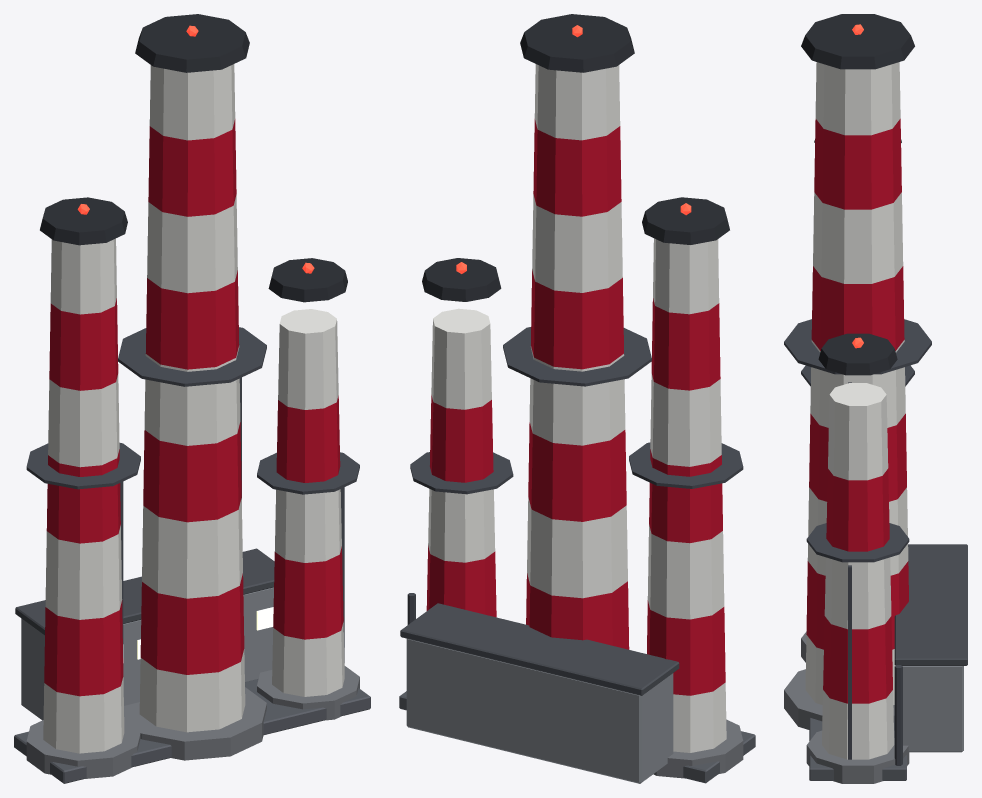
File: eramet_stacks.glb
3 renders of one model, left to right at view 1: azimuth 30°, elevation 25°; view 2: azimuth 150°, elevation 25°; view 3: azimuth 270°, elevation 25°, orthographic. The views are drawn at different scales.
Visible parts, largest first — view 1: eramet_stacks; view 2: eramet_stacks; view 3: eramet_stacks.
Part boxes in pixels (x1,y1,x2,y2): eramet_stacks: [14, 14, 370, 783]; eramet_stacks: [399, 14, 755, 783]; eramet_stacks: [784, 14, 967, 783].
Bounding box in the file's own units: 8.73 × 18.53 × 4.52.
